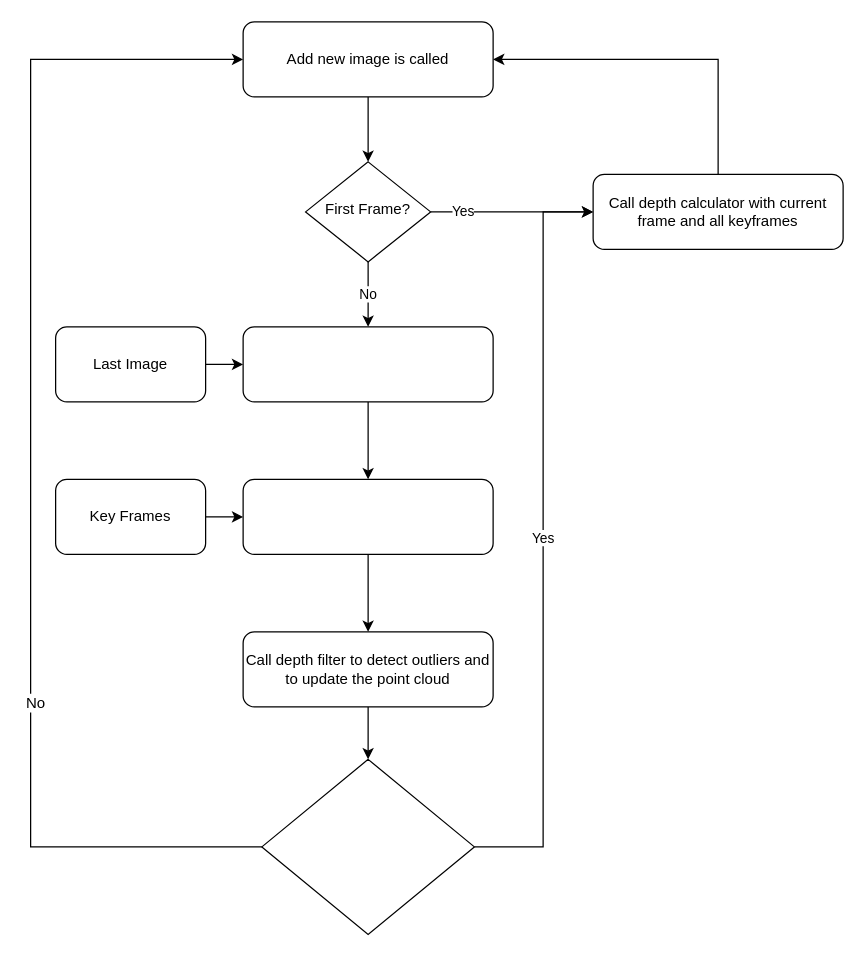
Image size: 865x956. Some labels were removed from this diagram. Here are the shapes that lost their labels. From the top down, the box of each, then its label:
(242, 326, 493, 402): Call pose estimator with current frame and previous frame
(242, 478, 493, 554): Call pose refiner with current frame and all keyframes
(261, 758, 474, 934): New Keyframe needed?
